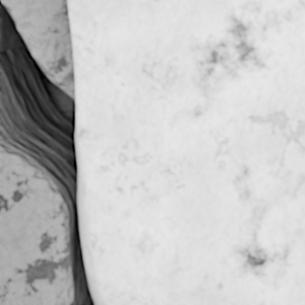brick: (68, 0, 304, 304)
crack: (0, 0, 95, 304)
